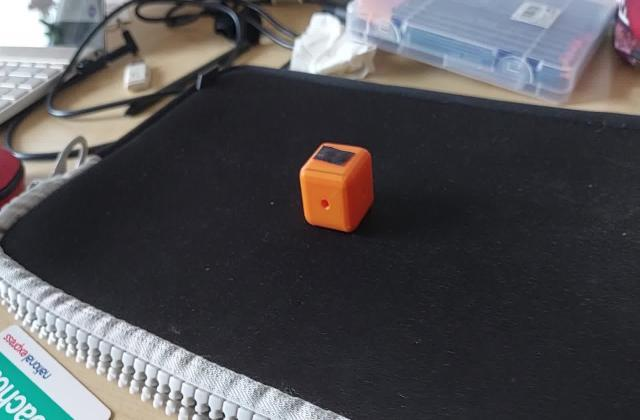black: (316, 144, 358, 168)
cube: (296, 141, 377, 233)
